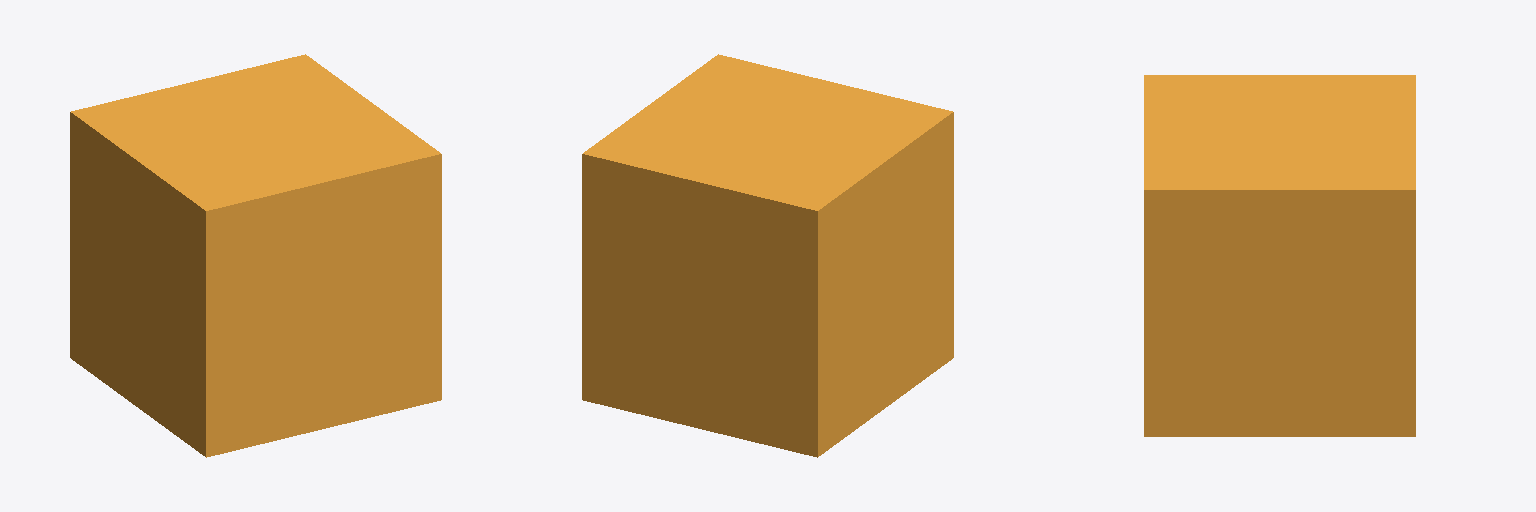
3 renders of one model, left to right at view 1: azimuth 30°, elevation 25°; view 2: azimuth 150°, elevation 25°; view 3: azimuth 270°, elevation 25°, orthographic.
Parts seen in each view (by area): view 1: object 1; view 2: object 1; view 3: object 1.
Boxes of the visible parts, x1=… form: object 1: x1=70, y1=54, x2=441, y2=457; object 1: x1=582, y1=54, x2=953, y2=457; object 1: x1=1144, y1=75, x2=1415, y2=436.
Bounding box in the file's own units: 6.4 × 6.4 × 6.4.
Materials: 1 (1 with a texture image).